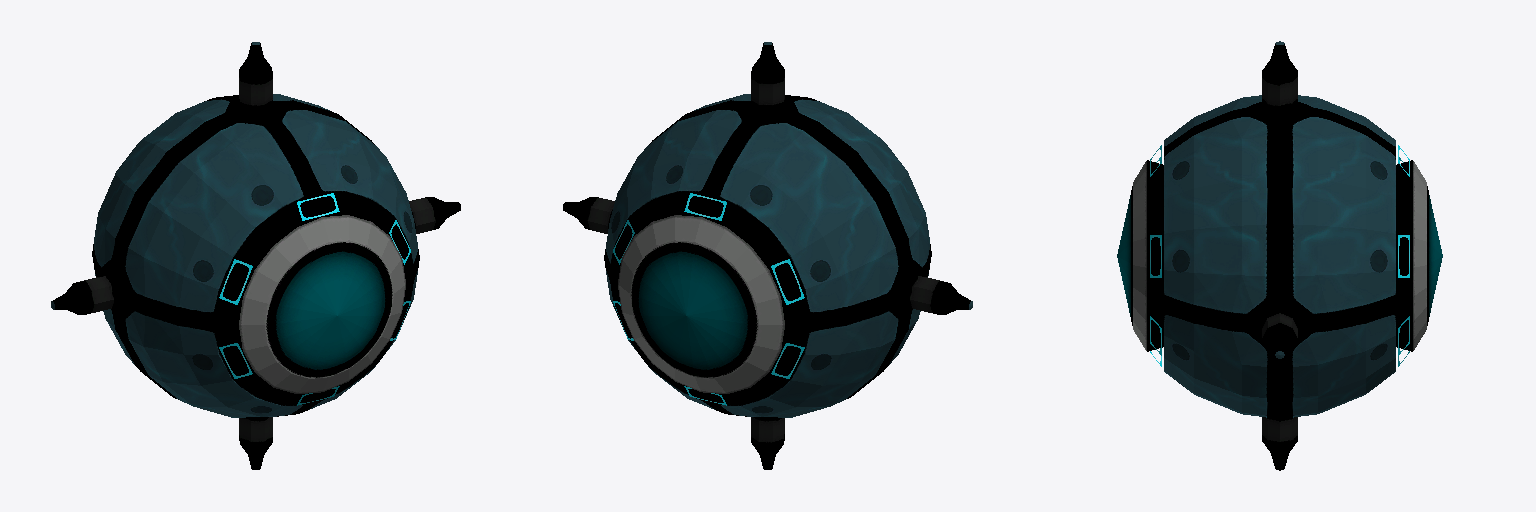
3 views of the same model, side by side, from view 1: azimuth 30°, elevation 25°; view 2: azimuth 150°, elevation 25°; view 3: azimuth 270°, elevation 25° (orthographic).
Parts seen in each view (by area): view 1: Mesh_1, Mesh_2, Mesh_3; view 2: Mesh_1, Mesh_2, Mesh_3; view 3: Mesh_1, Mesh_2, Mesh_3.
Boxes of the visible parts, x1,y1,x2,y2 form: Mesh_1: [51, 42, 460, 469]; Mesh_2: [265, 240, 393, 378]; Mesh_3: [219, 193, 410, 405]; Mesh_1: [563, 42, 972, 469]; Mesh_2: [630, 240, 758, 378]; Mesh_3: [613, 193, 804, 405]; Mesh_1: [1133, 41, 1426, 470]; Mesh_2: [1117, 186, 1442, 325]; Mesh_3: [1150, 145, 1409, 366].
Bounding box in the file's own units: 2.52 × 2.52 × 1.75.
1 materials, 1 textured.